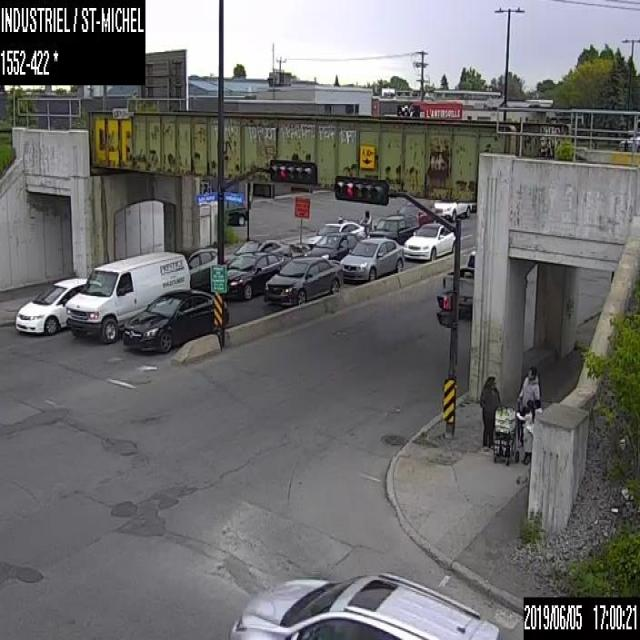construction: (294, 194, 309, 250)
pedestrian: (478, 375, 513, 462), (514, 398, 534, 463), (516, 364, 540, 414), (534, 398, 543, 413)
vehicle: (227, 570, 500, 638), (66, 250, 190, 342), (124, 288, 228, 353), (14, 277, 88, 333), (264, 255, 342, 304), (224, 251, 283, 299), (341, 236, 404, 280), (441, 248, 474, 318), (402, 221, 453, 260), (366, 212, 419, 243), (180, 245, 218, 288), (304, 215, 364, 241), (302, 232, 359, 258), (234, 239, 292, 256), (429, 199, 472, 220), (396, 200, 430, 222), (223, 200, 246, 226), (356, 209, 375, 237)
